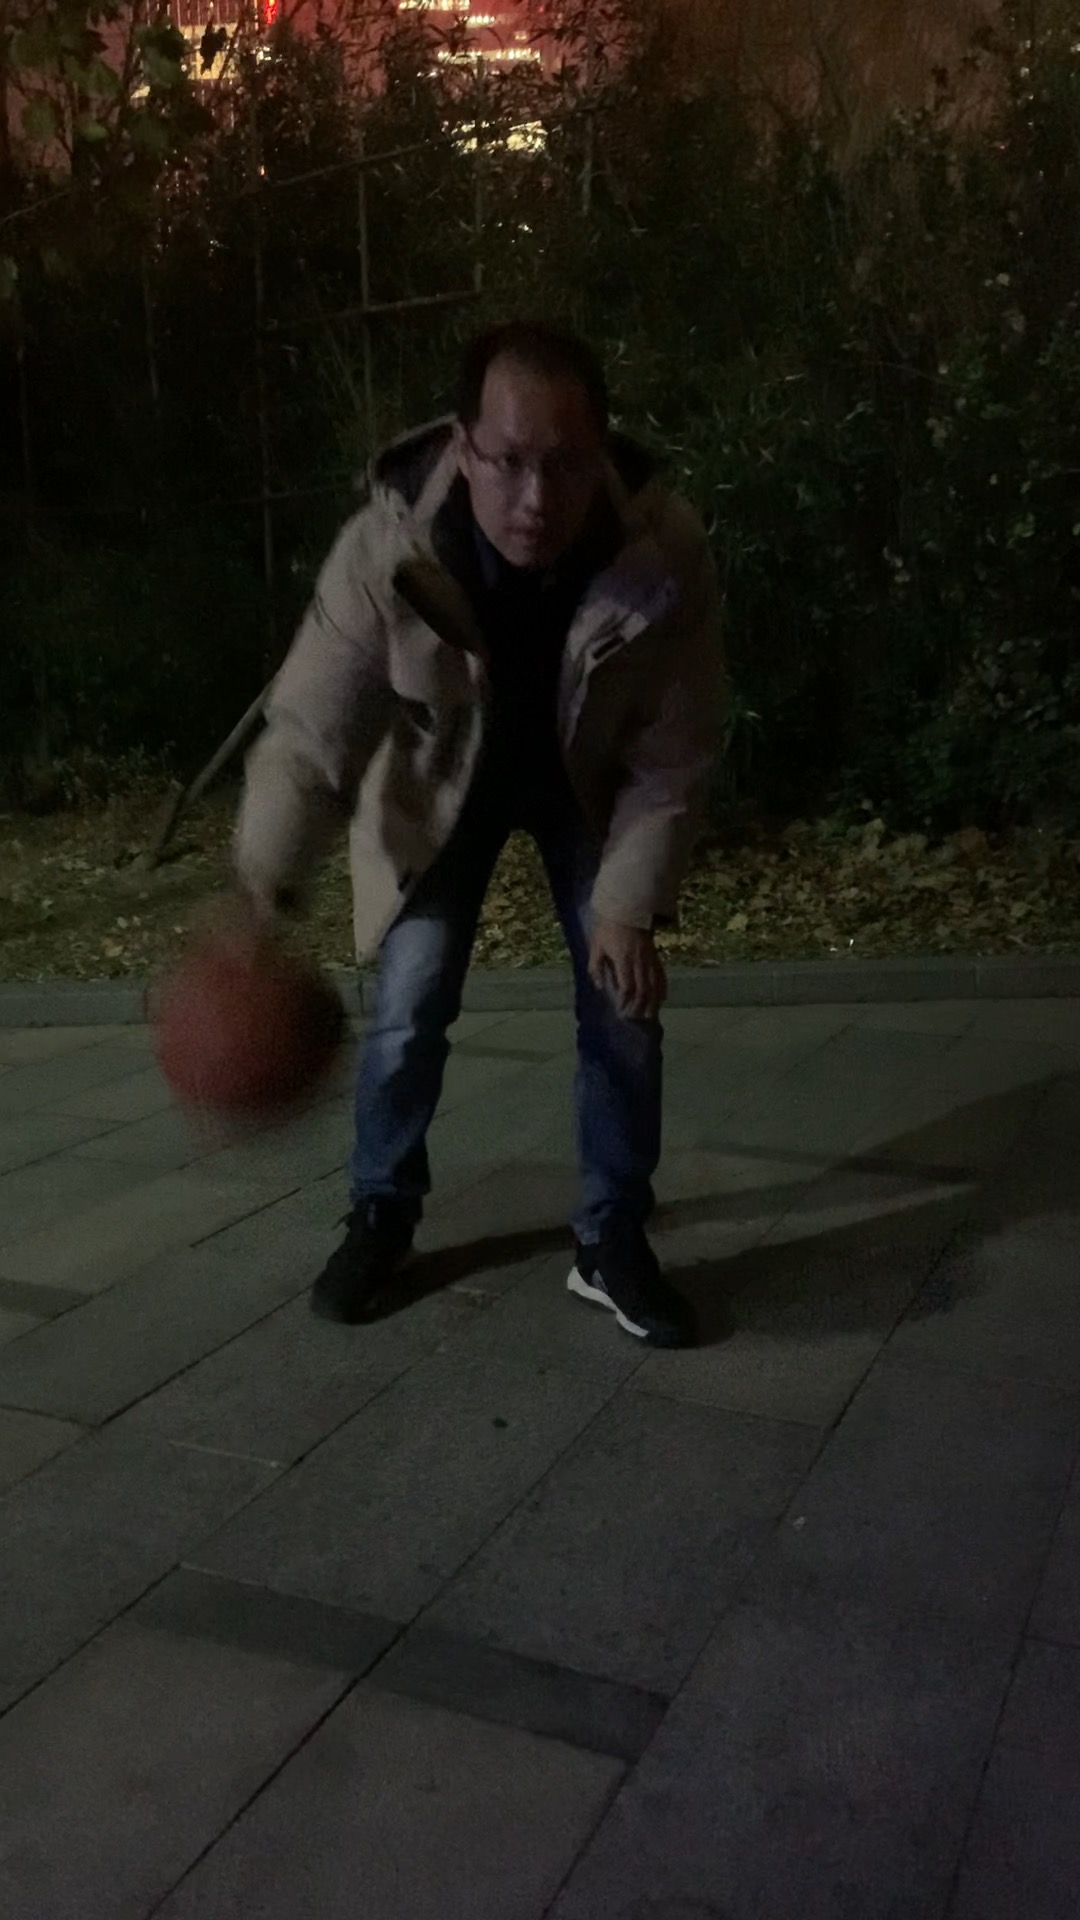ball: (152, 942, 352, 1139)
